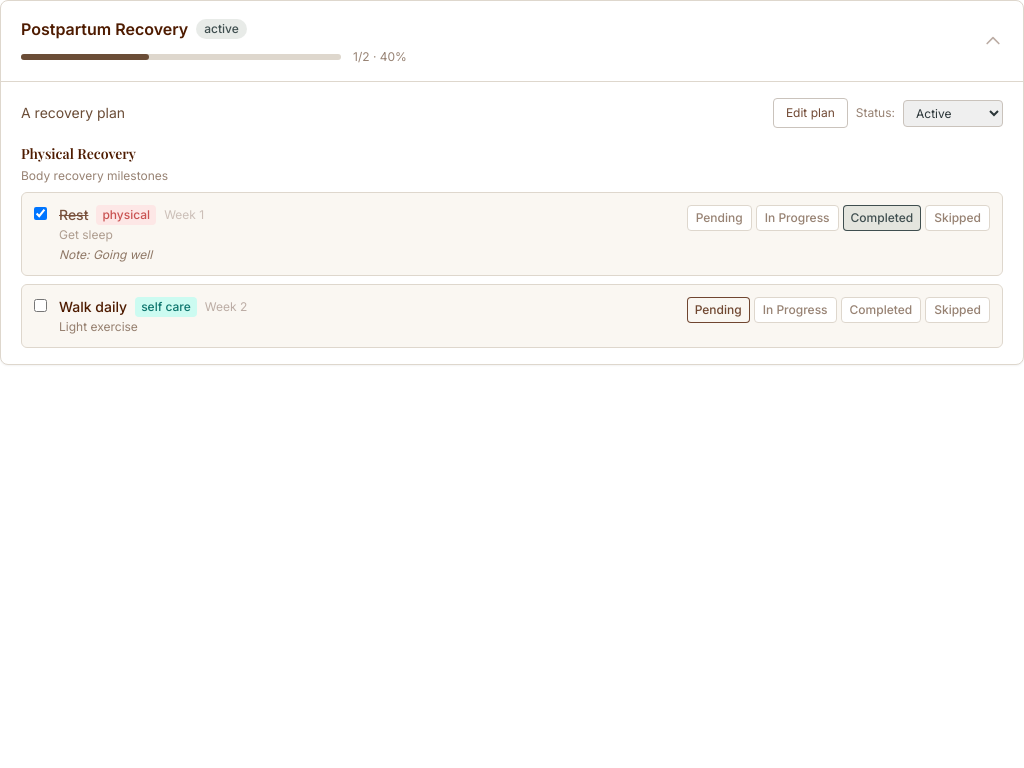
Scenario: CarePlanCard › can add a milestone in edit mode
Click the button "Edit plan". click: (810, 113)
box: [773,98,848,128]
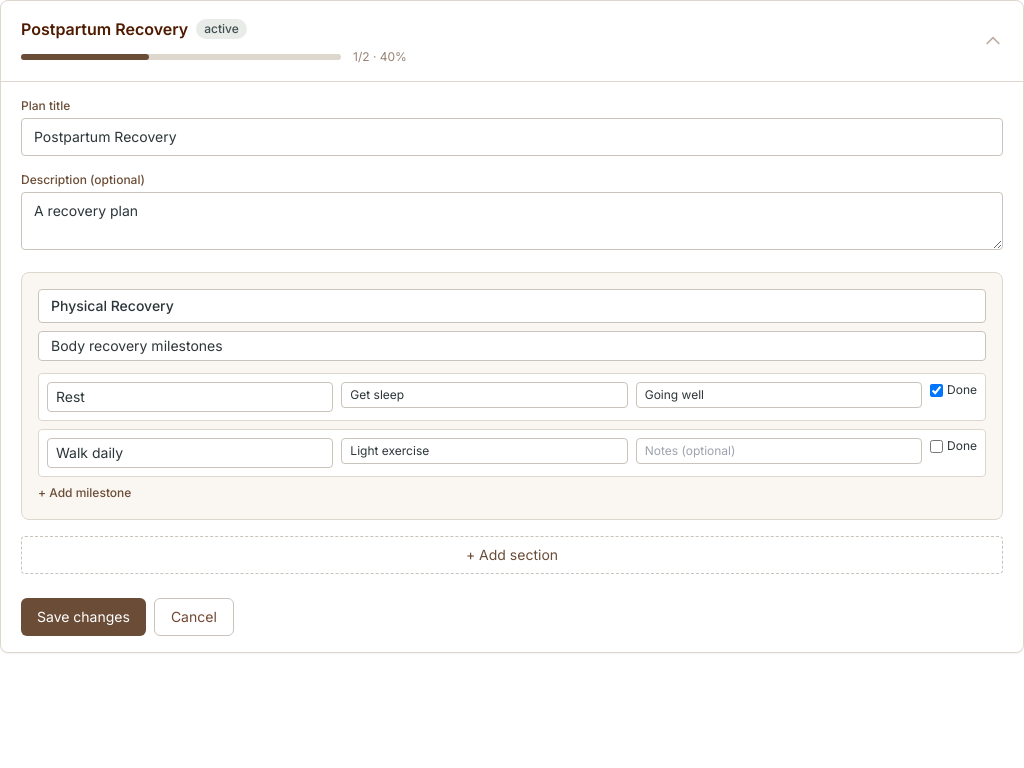
Click the button "+ Add milestone". click: (85, 493)
box: [38,485,131,501]
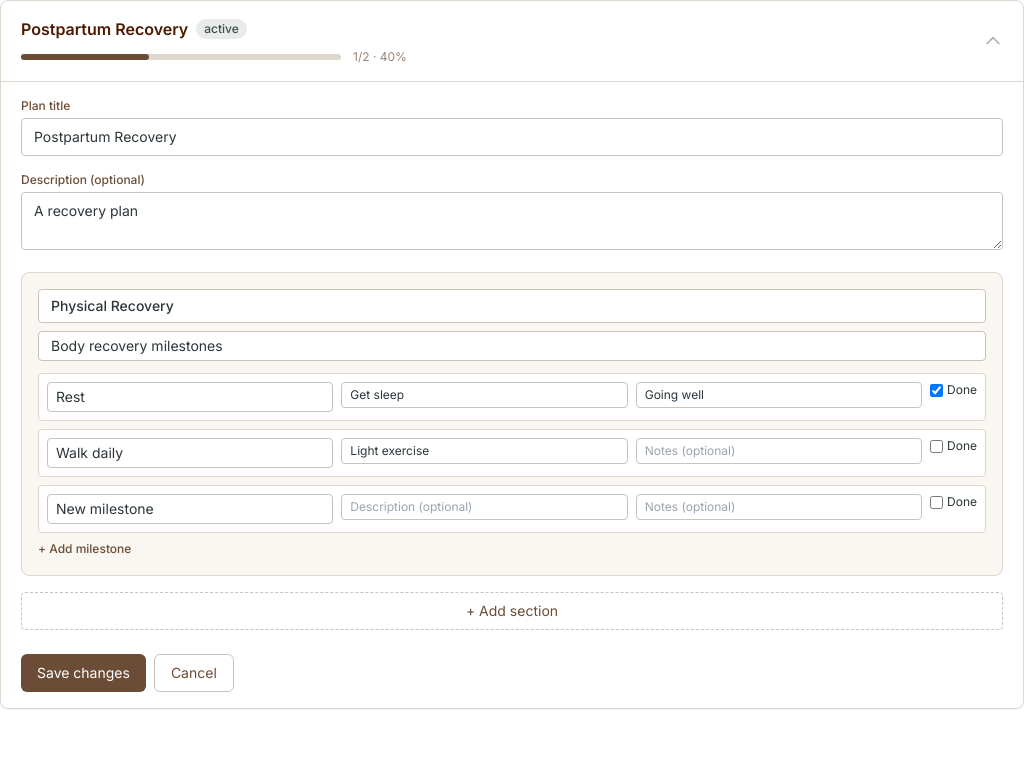
Expected: the 9th field showing "New milestone" is shown, [47,494,333,524]
